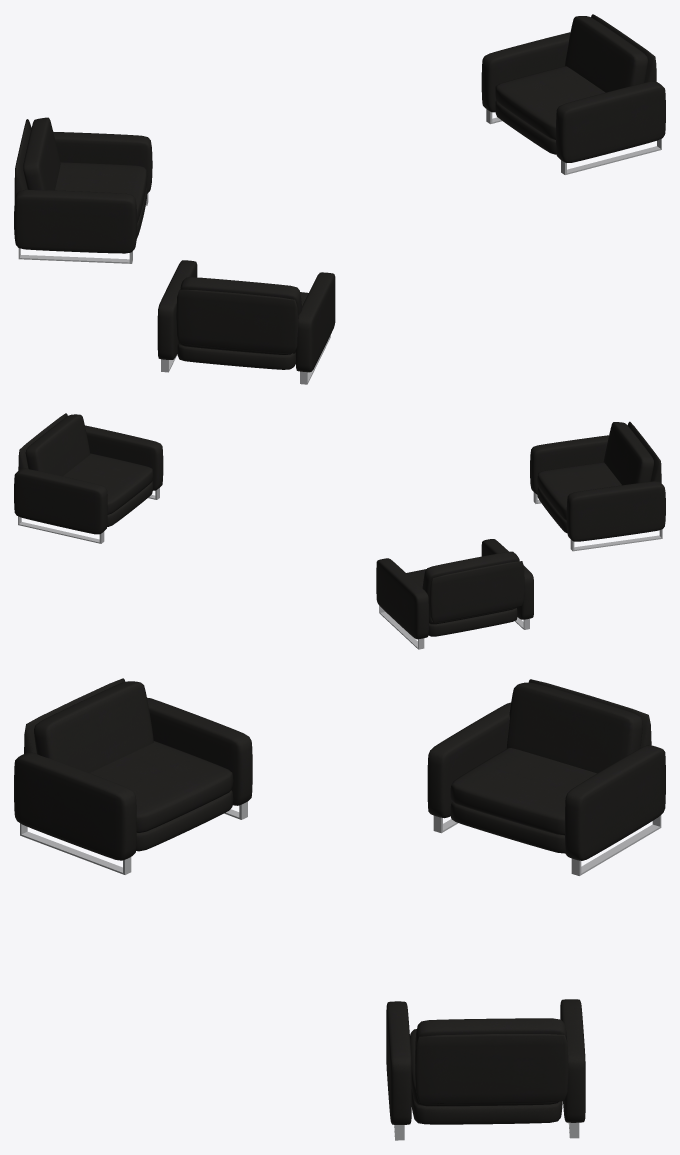
File: chairs.gltf
3 renders of one model, top to bottom at view 1: azimuth 30°, elevation 25°; view 2: azimuth 150°, elevation 25°; view 3: azimuth 270°, elevation 25°, orthographic. The views are drawn at different scales.
Parts seen in each view (by area): view 1: Cube.006, Cube.000, Cube.001; view 2: Cube.006, Cube.001, Cube.000; view 3: Cube.000, Cube.001, Cube.006.
Part boxes in pixels (left/top/right/bottom): Cube.006: left=481, top=14, right=665, bottom=174; Cube.000: left=14, top=117, right=152, bottom=263; Cube.001: left=157, top=260, right=335, bottom=384; Cube.006: left=14, top=413, right=163, bottom=543; Cube.001: left=530, top=421, right=665, bottom=551; Cube.000: left=376, top=539, right=533, bottom=649; Cube.000: left=427, top=679, right=665, bottom=875; Cube.001: left=14, top=678, right=252, bottom=874; Cube.006: left=386, top=999, right=585, bottom=1140.
Bounding box in the file's own units: 8.17 × 1.15 × 6.13.
2 materials, 2 textured.
